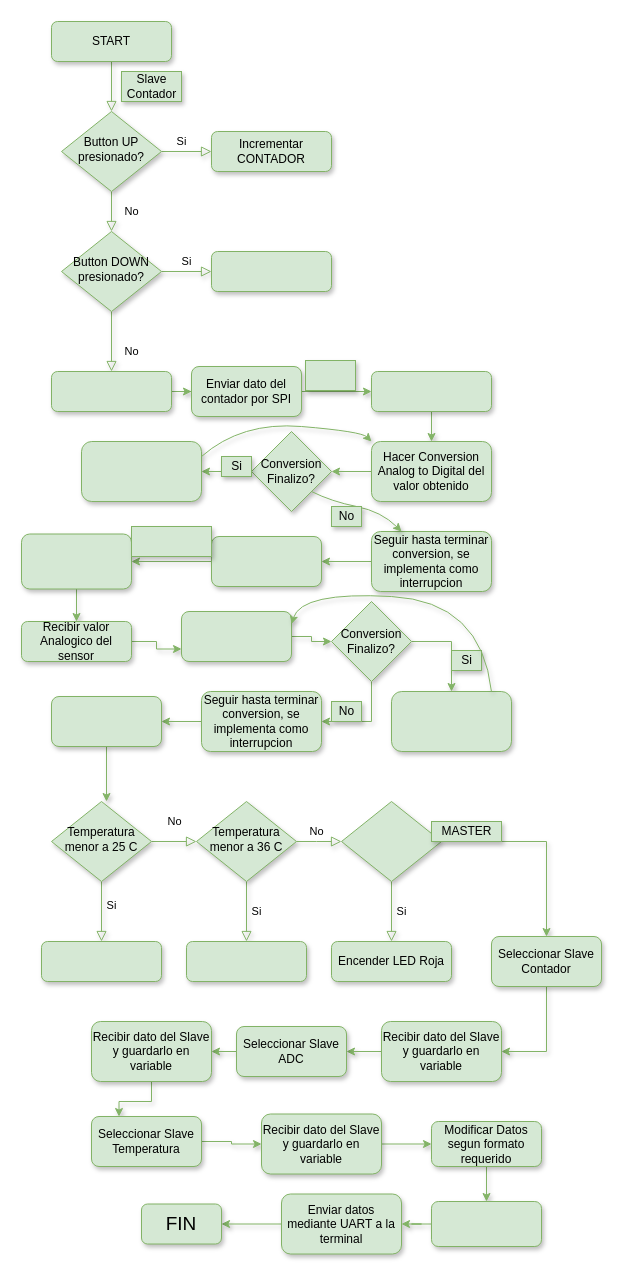
This 625x1279 diagram has some shape labels left out. Each missing label, with the centre of its shape:
"Decrementar CONTADOR" goes at point 272,272.
"Desplegar Contador en LEDS (binario)" goes at point 112,392.
"Desplegar Valores en LCD" goes at point 487,1225.
"Encender LED Amarilla" goes at point 247,962.
"Encender LED verde" goes at point 102,962.
"Enviar Dato de Temperatura por SPI" goes at point 107,723.
"Enviar Dato del ADC por SPI" goes at point 267,563.
"Hacer conversión Analog to Digital del valor obtenido" goes at point 237,637.
"Recibir valor ADC del divisor de voltaje" goes at point 432,392.
"Slave ADC" goes at point 331,377.
"Slave Temperatura" goes at point 172,543.
"Temperatura mayor a 36 C" goes at point 392,842.
"Tomar valor digital y guardarlo en variable para ADC" goes at point 142,472.
"Tomar valor digital y guardarlo en variable para Temperatura" goes at point 452,722.
"Tomar Voltajes de referencia -0.55V y 1.5V" goes at point 77,562.
